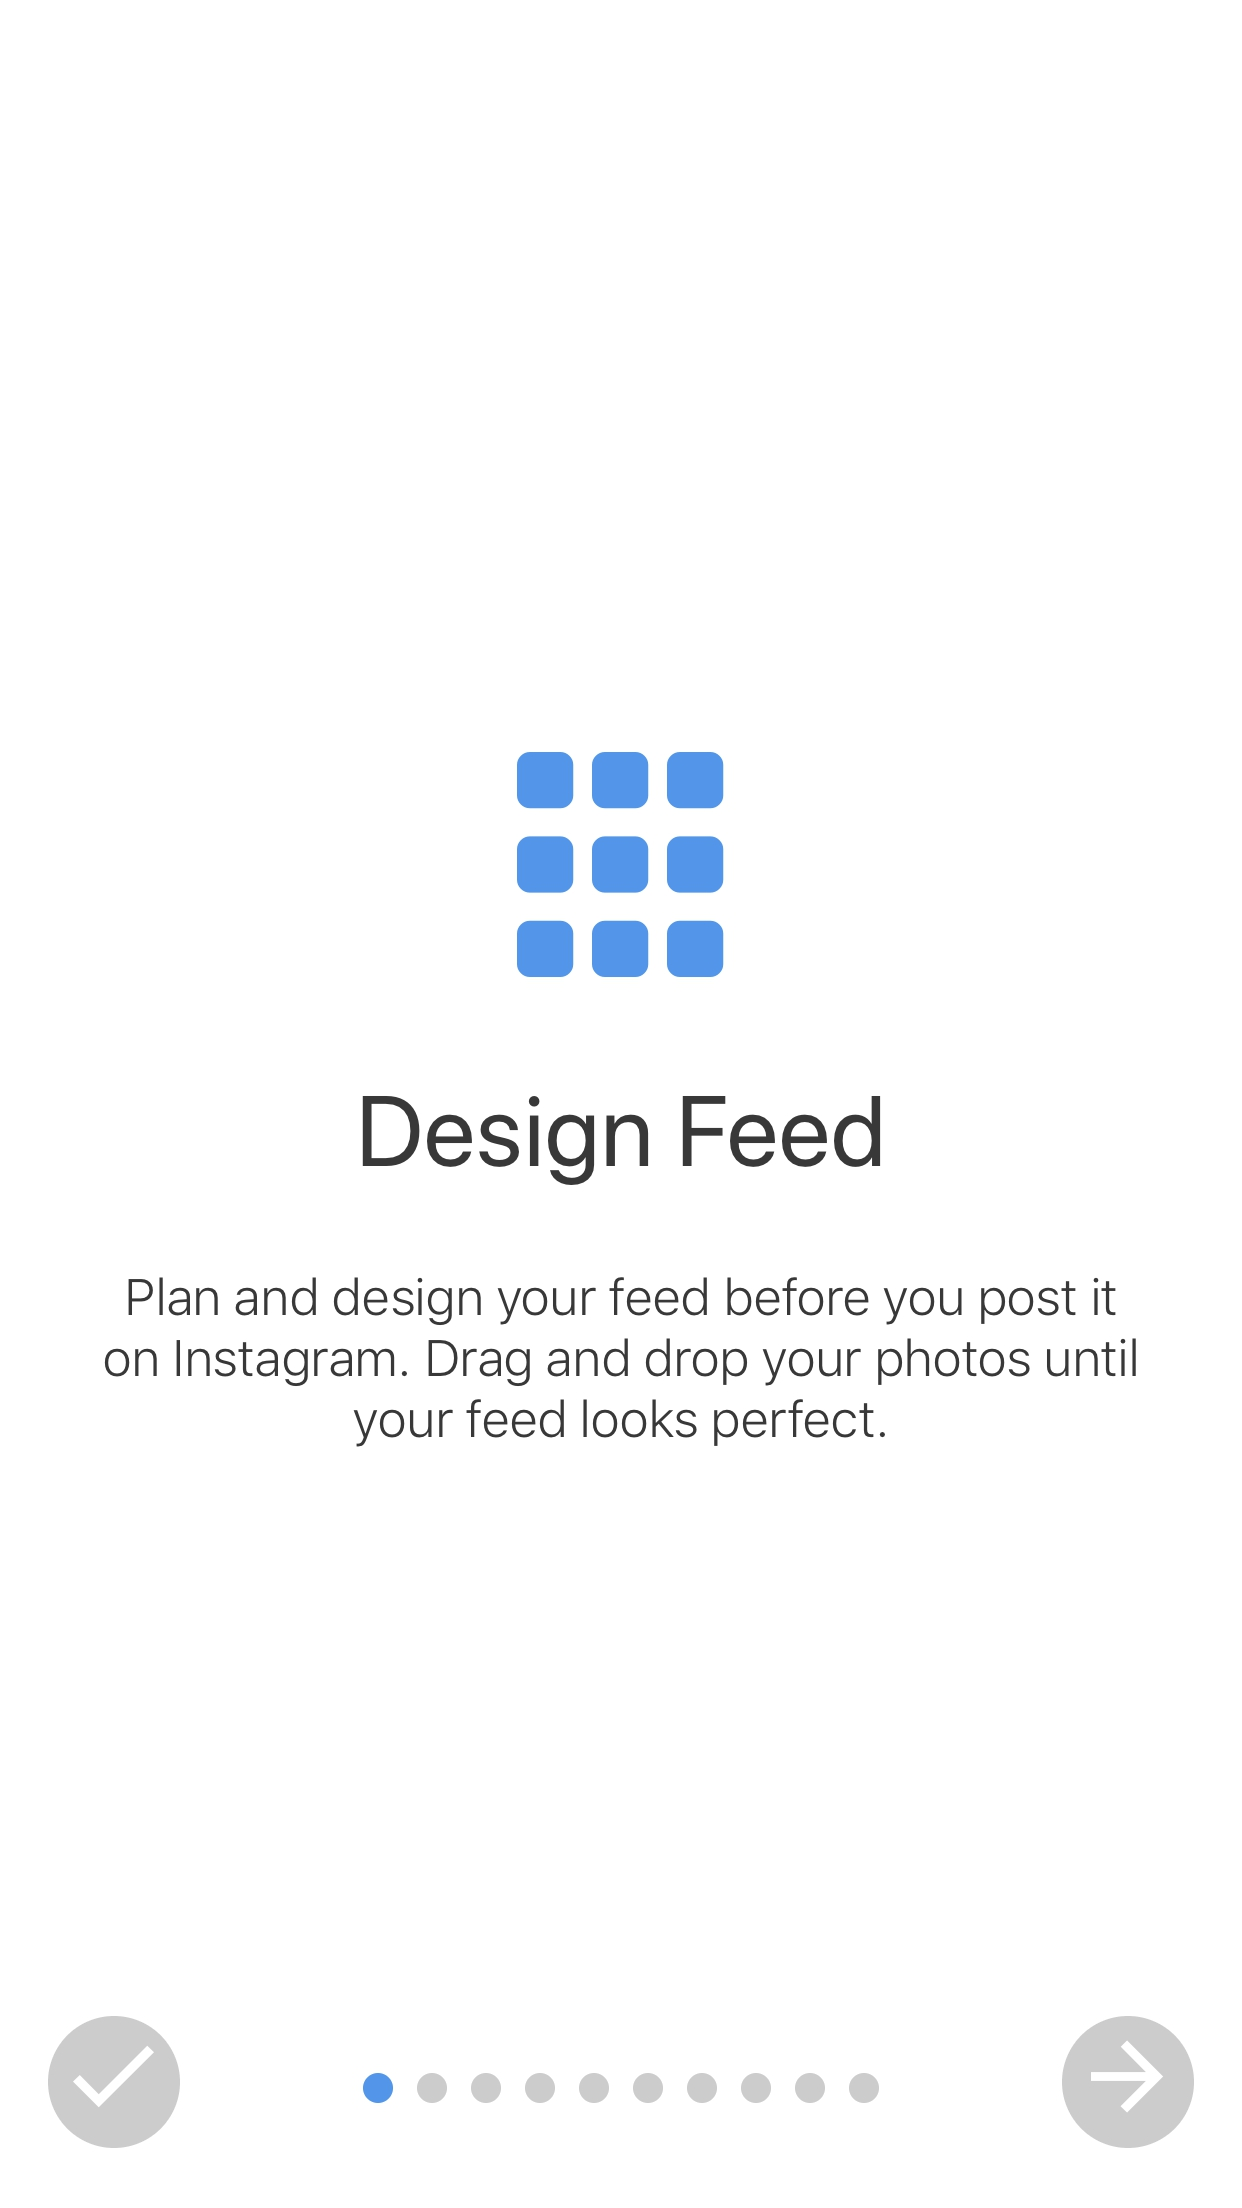Icon: (517, 752, 723, 978), (1062, 2015, 1193, 2147), (49, 2015, 180, 2147)
PageIndicator: (362, 2072, 880, 2103)
Text: (105, 1277, 1136, 1447), (362, 1096, 881, 1184)
